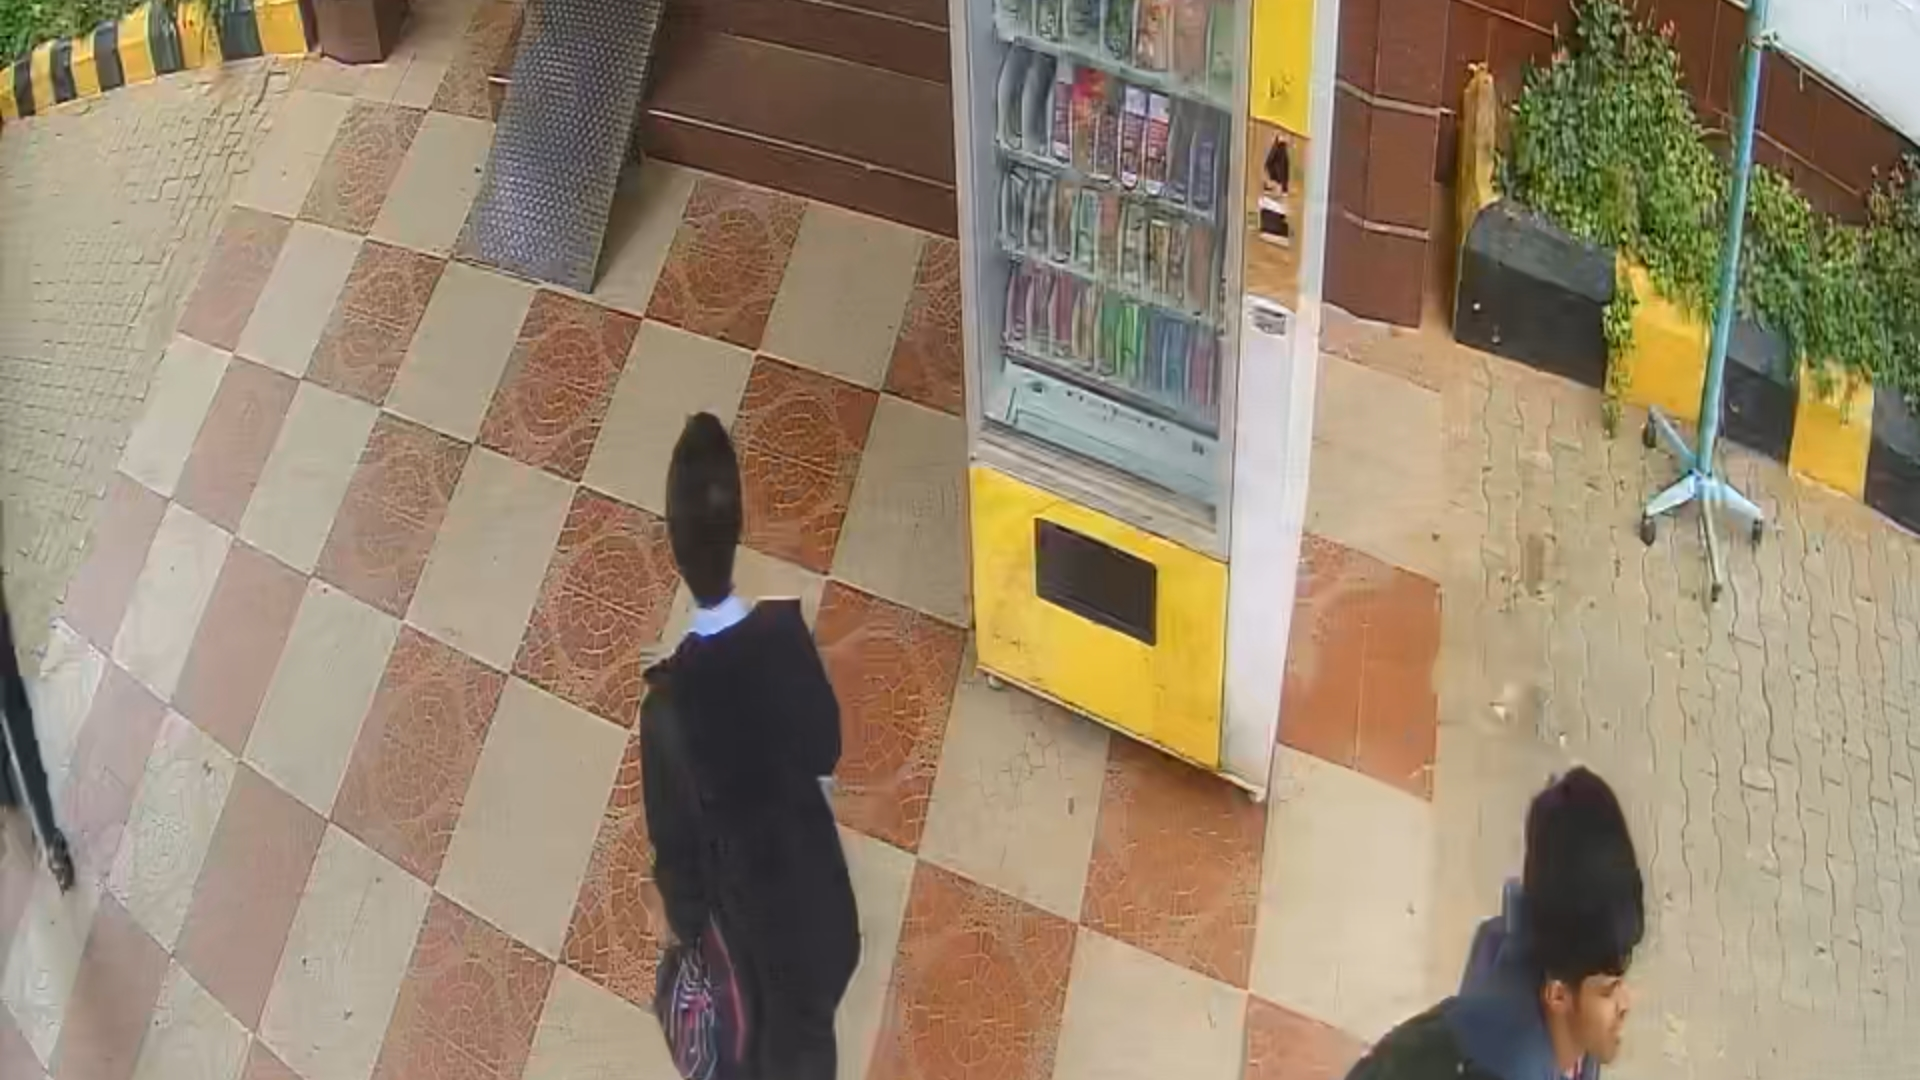intruder: (633, 407, 866, 1080)
